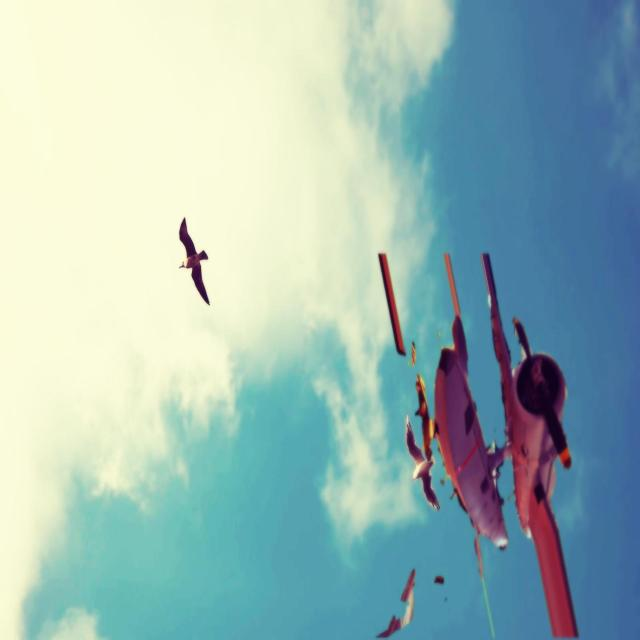airplane: (377, 249, 579, 638)
